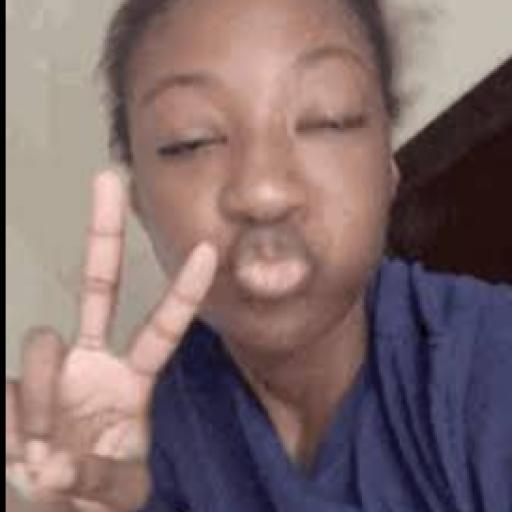Peace: (8, 150, 210, 512)
